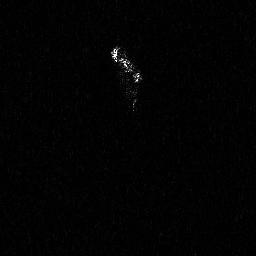ship: (108, 44, 145, 113)
